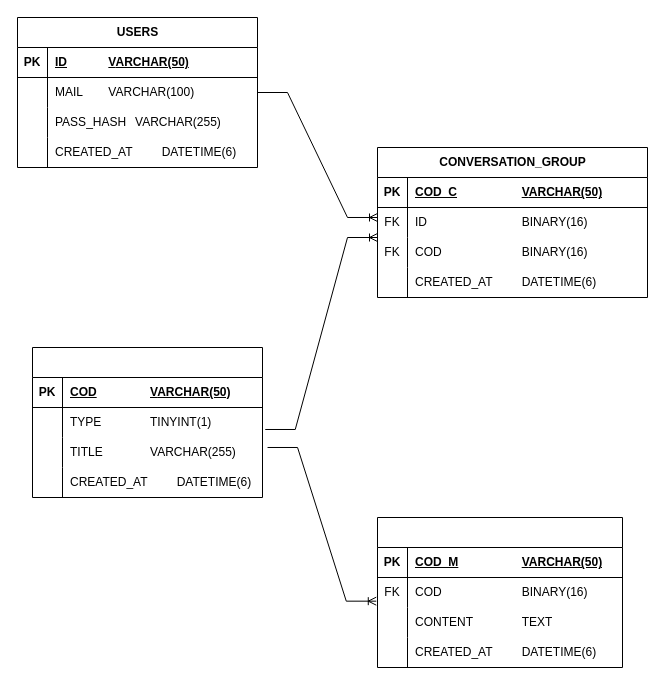
The diagram is 665 pixels wide and 685 high, and some of its shapes have lost their labels. The shapes that lost their labels are listed below. From the top down, each one's box as (x1, y1, x2, y2) in pixels, then its label:
(32, 346, 262, 498): CONVERSATIONS
(376, 516, 622, 668): MESSAGE
